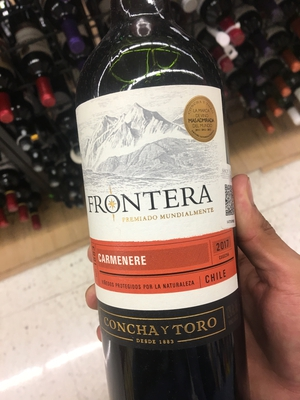frontera carmenere: (52, 23, 284, 386)
